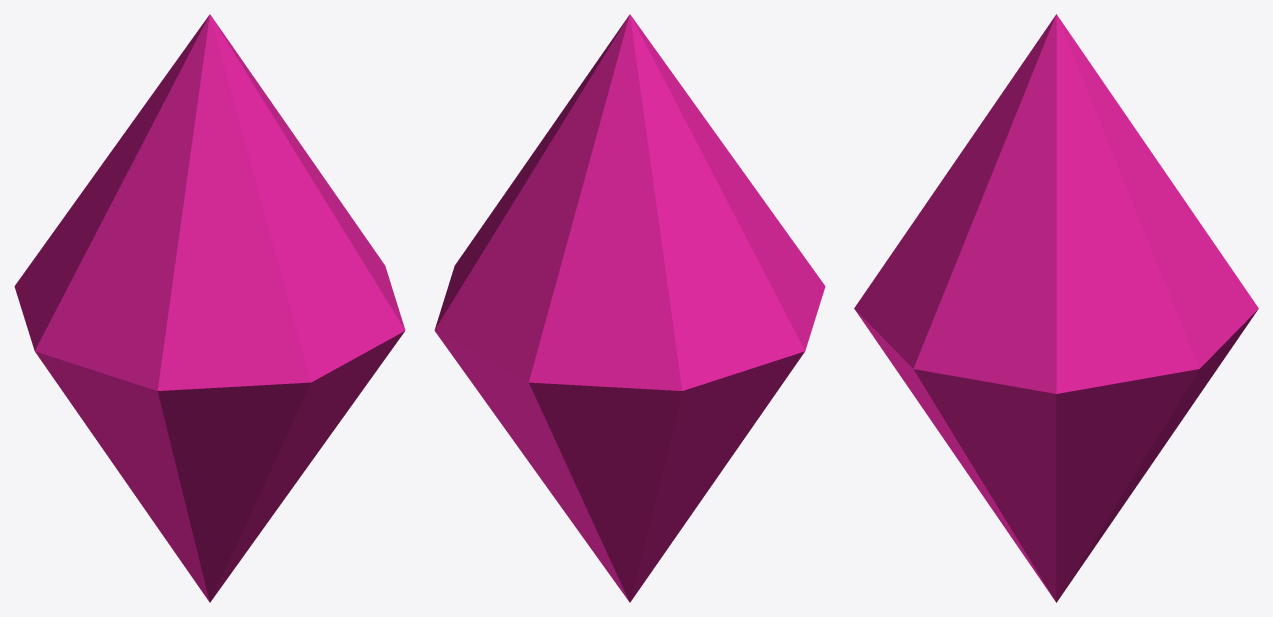
Rendered from currency.fbx.
3 renders of one model, left to right at view 1: azimuth 30°, elevation 25°; view 2: azimuth 150°, elevation 25°; view 3: azimuth 270°, elevation 25°, orthographic.
Parts seen in each view (by area): view 1: Circle; view 2: Circle; view 3: Circle.
Part boxes in pixels (bbox=[...]): Circle: bbox=[14, 14, 405, 602]; Circle: bbox=[434, 14, 825, 602]; Circle: bbox=[854, 14, 1258, 602].
Size of the model in its own units: 249 by 400 by 249.
